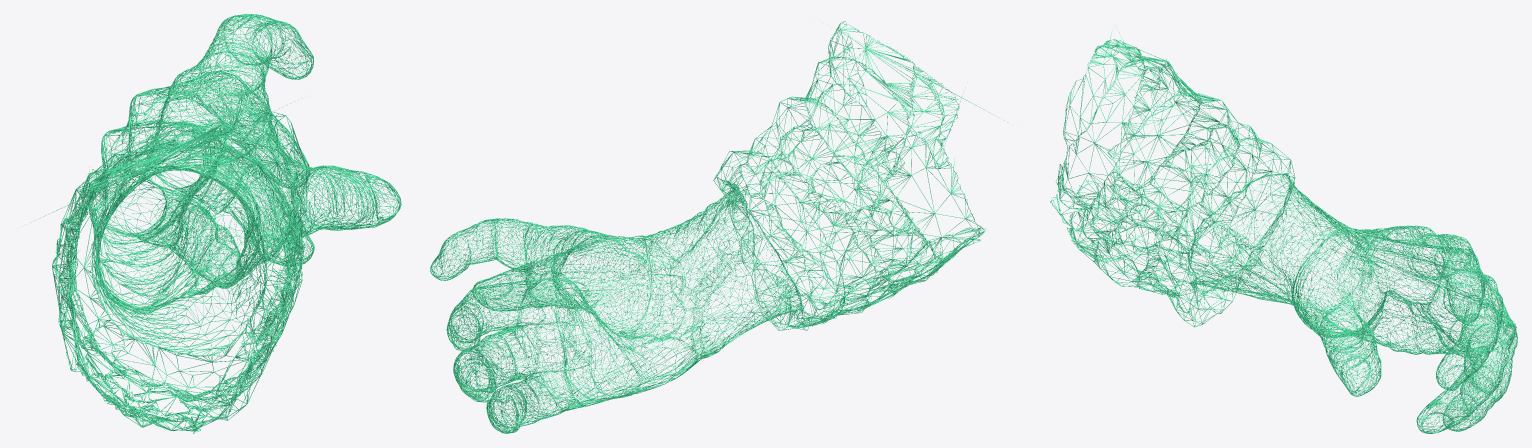
File: hand.glb
3 renders of one model, left to right at view 1: azimuth 30°, elevation 25°; view 2: azimuth 150°, elevation 25°; view 3: azimuth 270°, elevation 25°, orthographic. The views are drawn at different scales.
Visible parts, largest first — view 1: tripo_part_7, tripo_part_52; view 2: tripo_part_7, tripo_part_52; view 3: tripo_part_7, tripo_part_52.
Boxes of the visible parts, x1,y1,x2,y2 form: tripo_part_7: (88,14,401,356); tripo_part_52: (30,103,308,433); tripo_part_7: (430,185,802,433); tripo_part_52: (713,21,1007,330); tripo_part_7: (1188,173,1517,433); tripo_part_52: (1050,30,1295,327).
Size of the model in its own units: 0.963 by 0.6796 by 0.9532.
